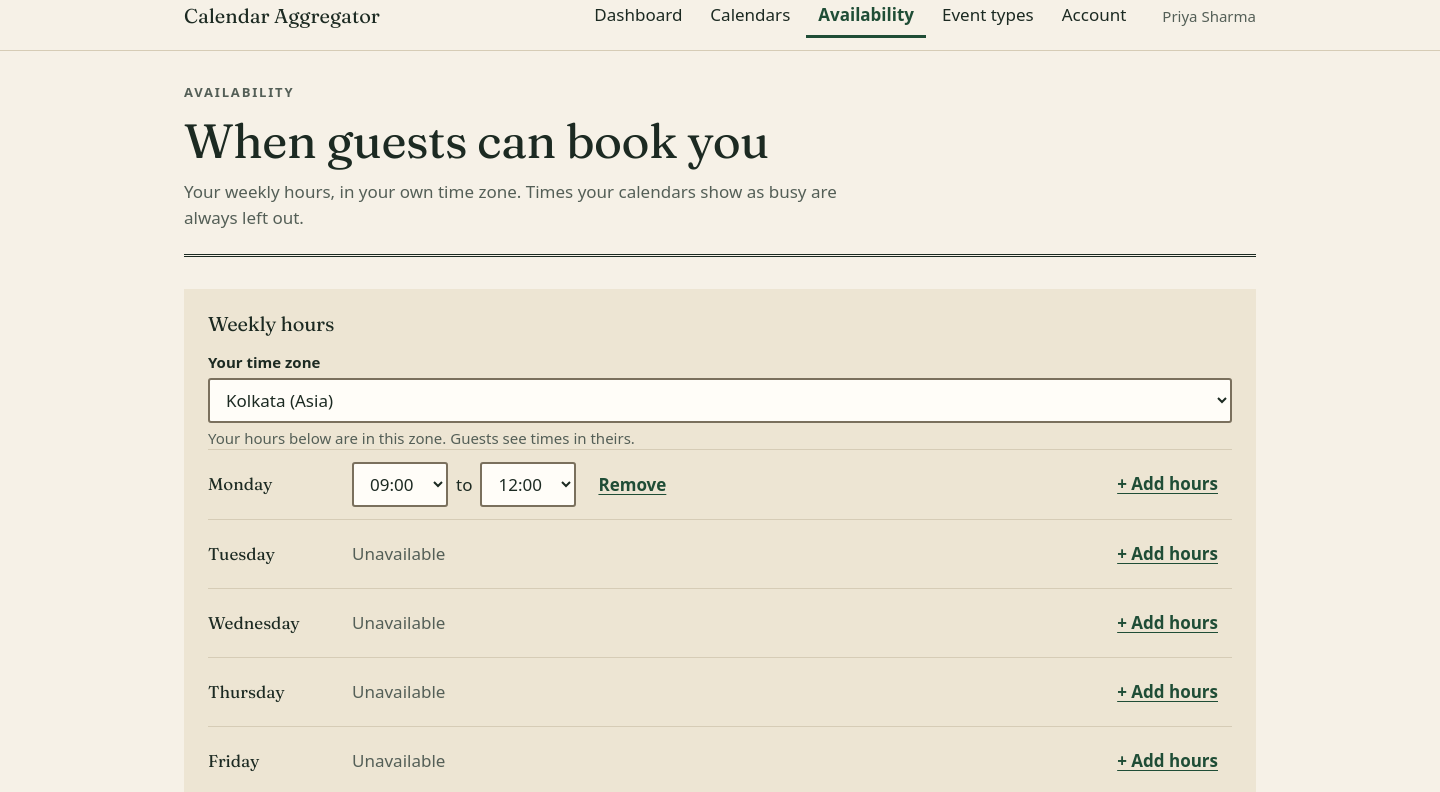
Test: the availability page › catches overlapping hours before sending, with the same message as the server
Click the button with aria-label "Add hours on Monday" at (1168, 484), box [1103, 462, 1232, 506]
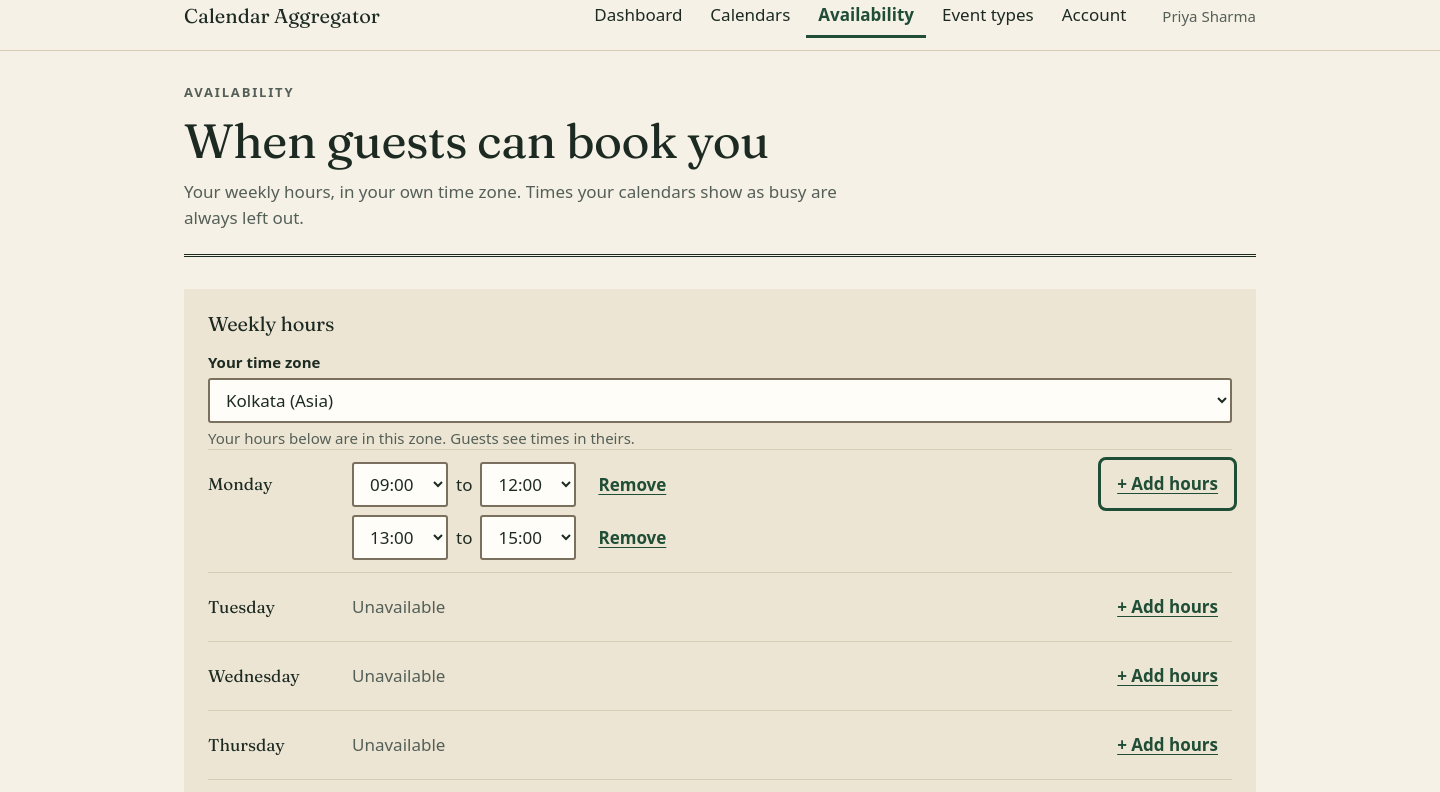
Select "11:00" in the 3rd dropdown named "Monday, from" at (400, 538), box [352, 515, 448, 560]
(page scrolled)
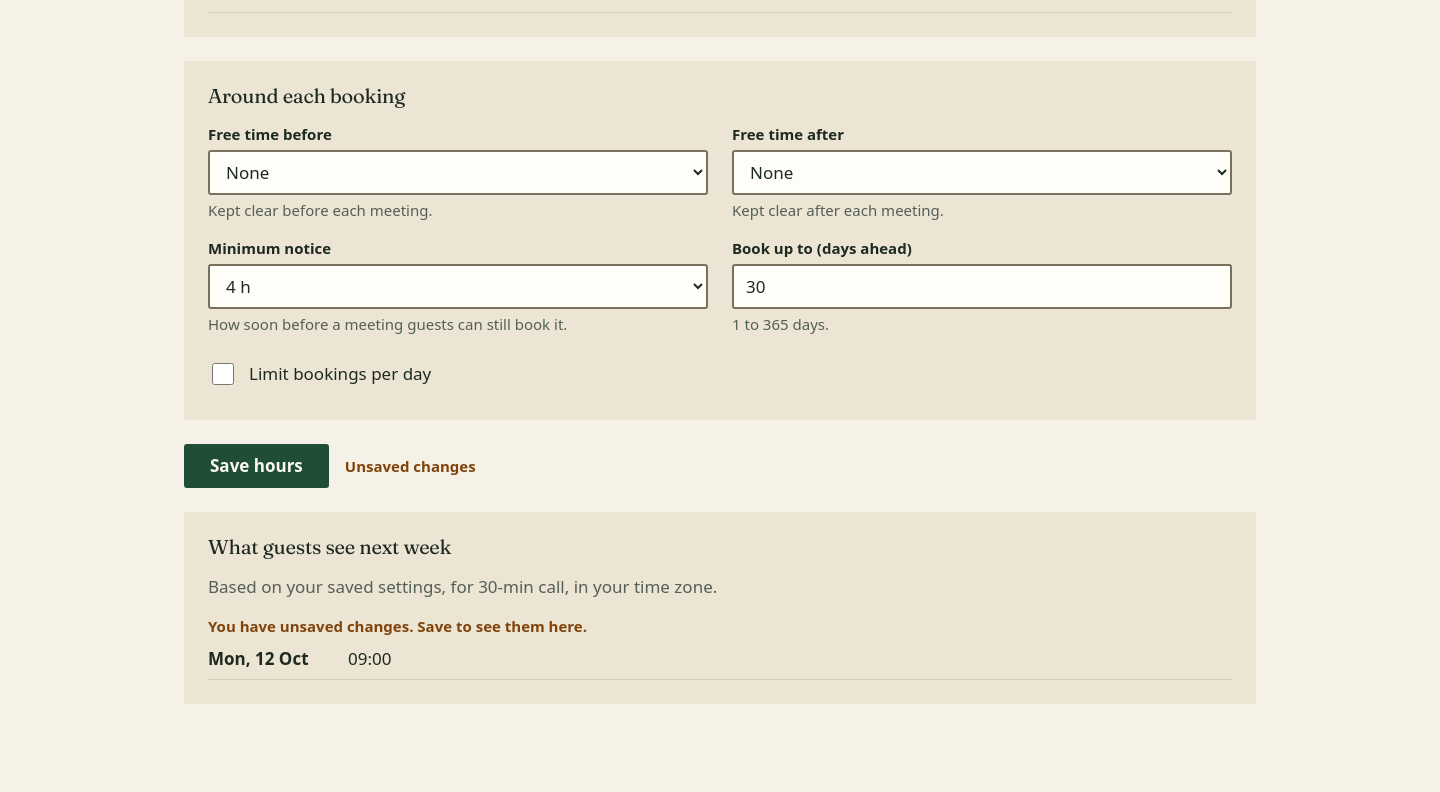
Click the button "Save hours" at (256, 466), box [184, 444, 329, 488]
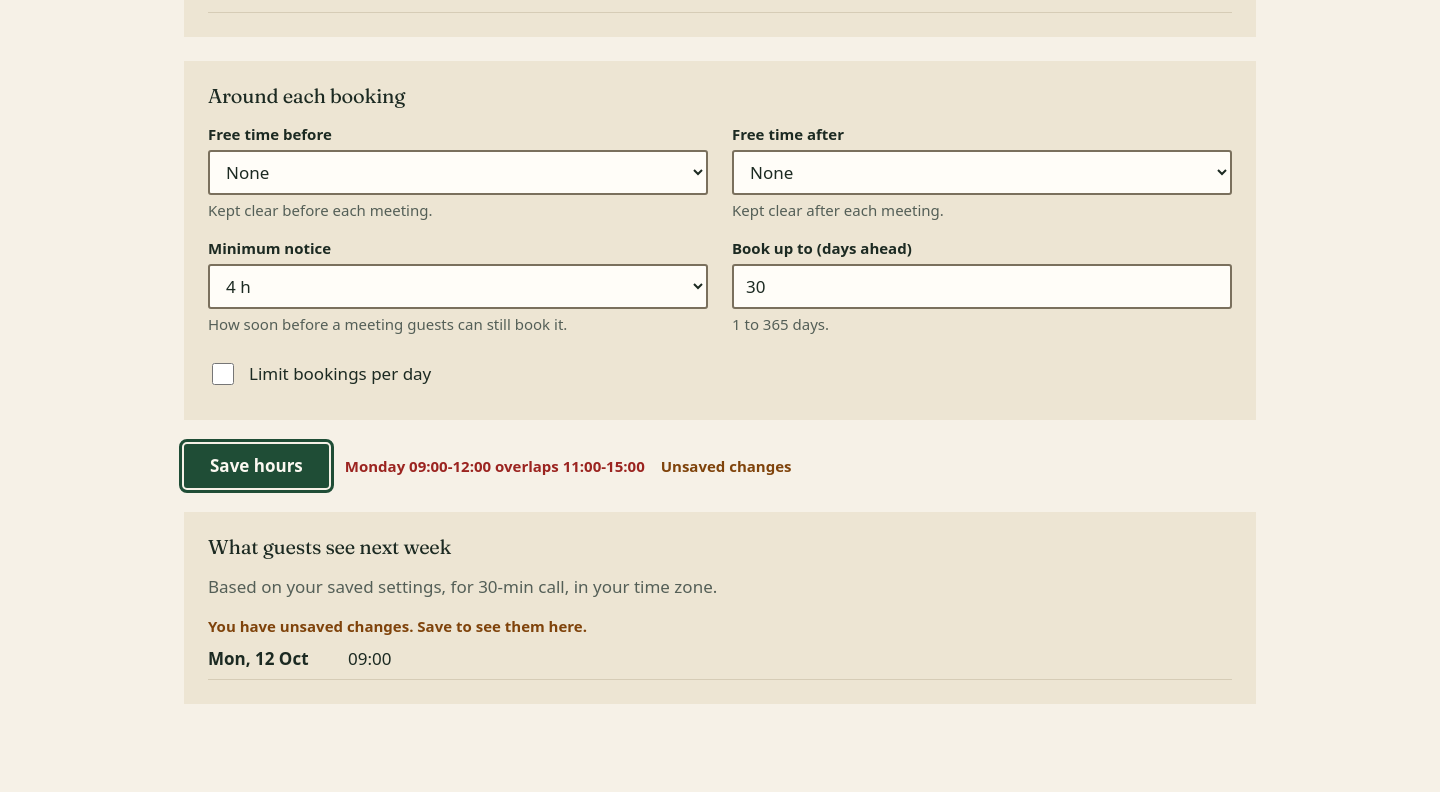
Result: the text "Monday 09:00-12:00 overlaps 11:00-15:00" is shown at [345, 454, 645, 477]
